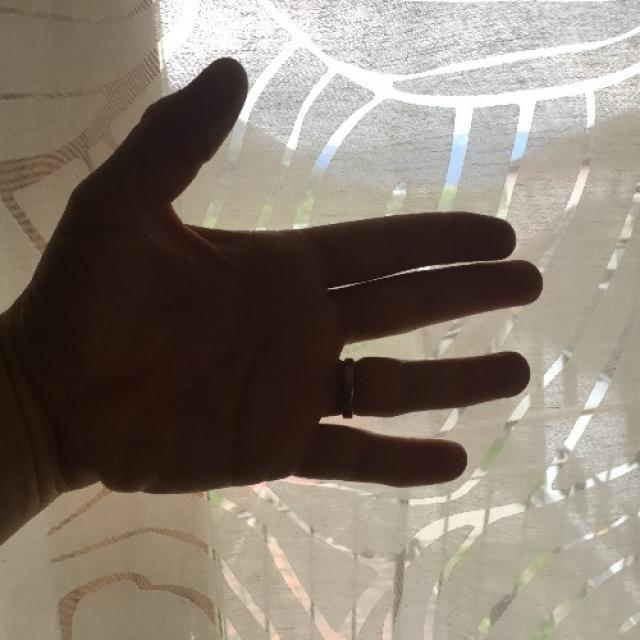paper: (42, 58, 544, 490)
